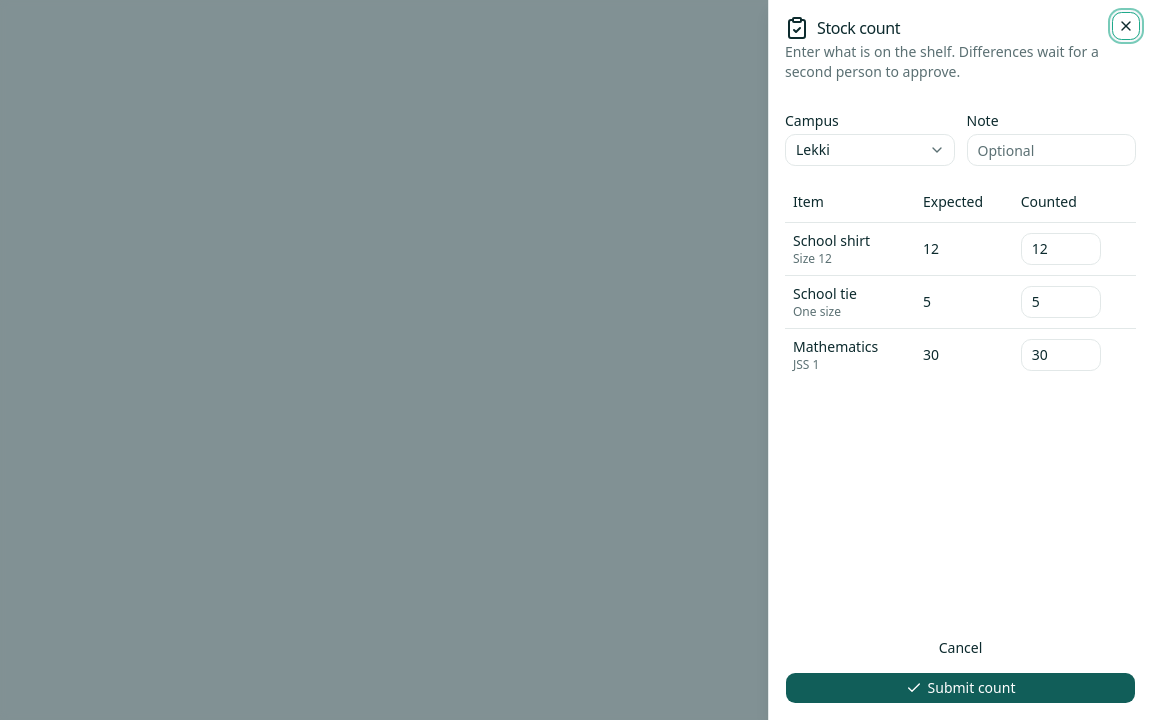
Test: StockCountSheet › goes back to the count on Cancel in the confirmation without submitting
The width and height of the screenshot is (1152, 720).
Step 1. Replace the text in the number field named "Counted School tie" with "4" → (1061, 302), box top-left (1021, 286), bottom-right (1101, 318)
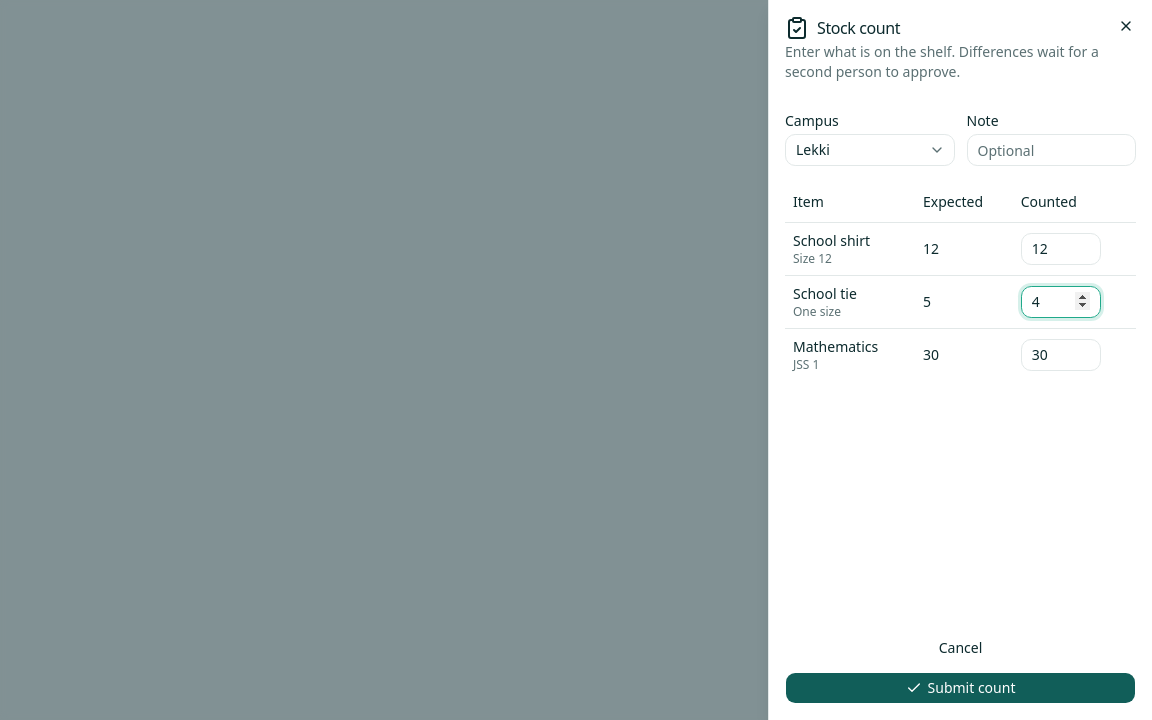
Step 2. Click the button "Submit count" → click(960, 688), box top-left (785, 672), bottom-right (1136, 704)
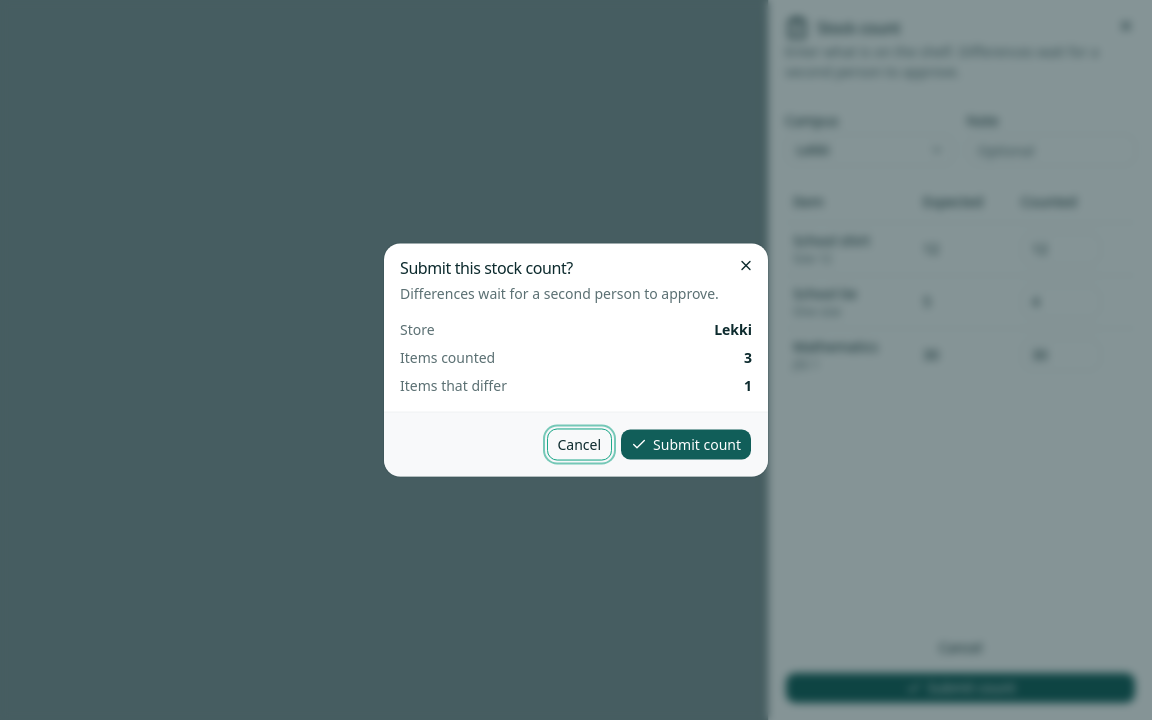
Step 3. Click the button "Cancel" → click(579, 444), box top-left (546, 428), bottom-right (612, 460)
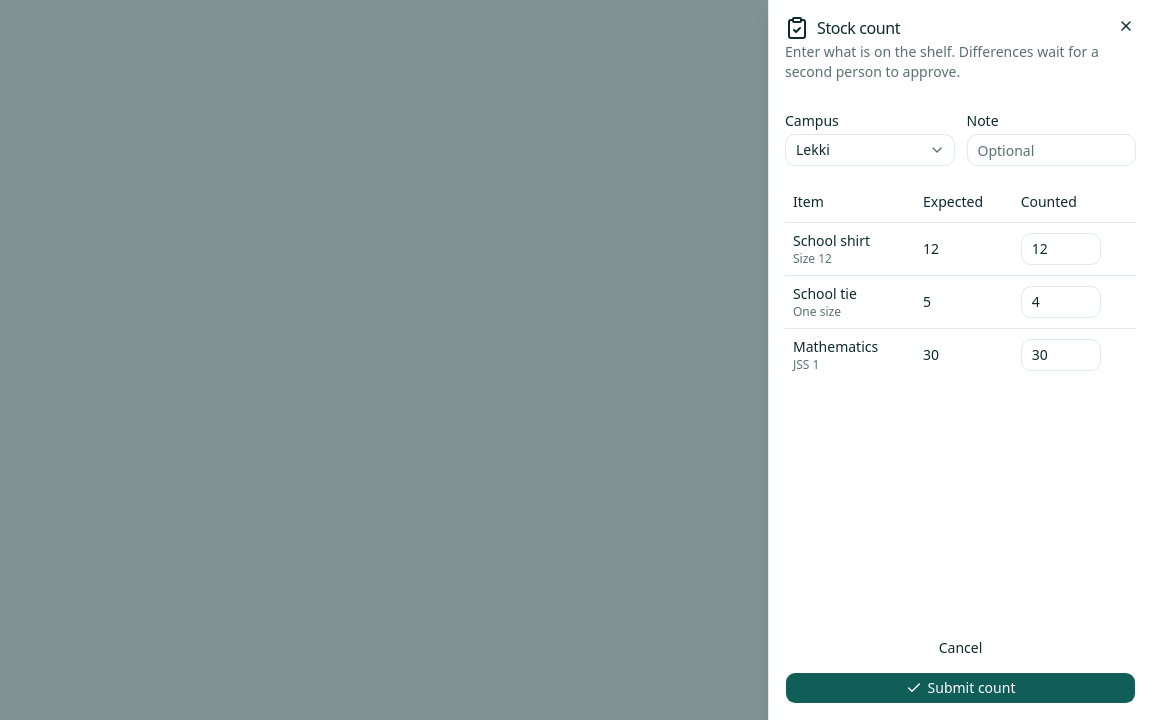
Now the heading "Submit this stock count?" is gone
